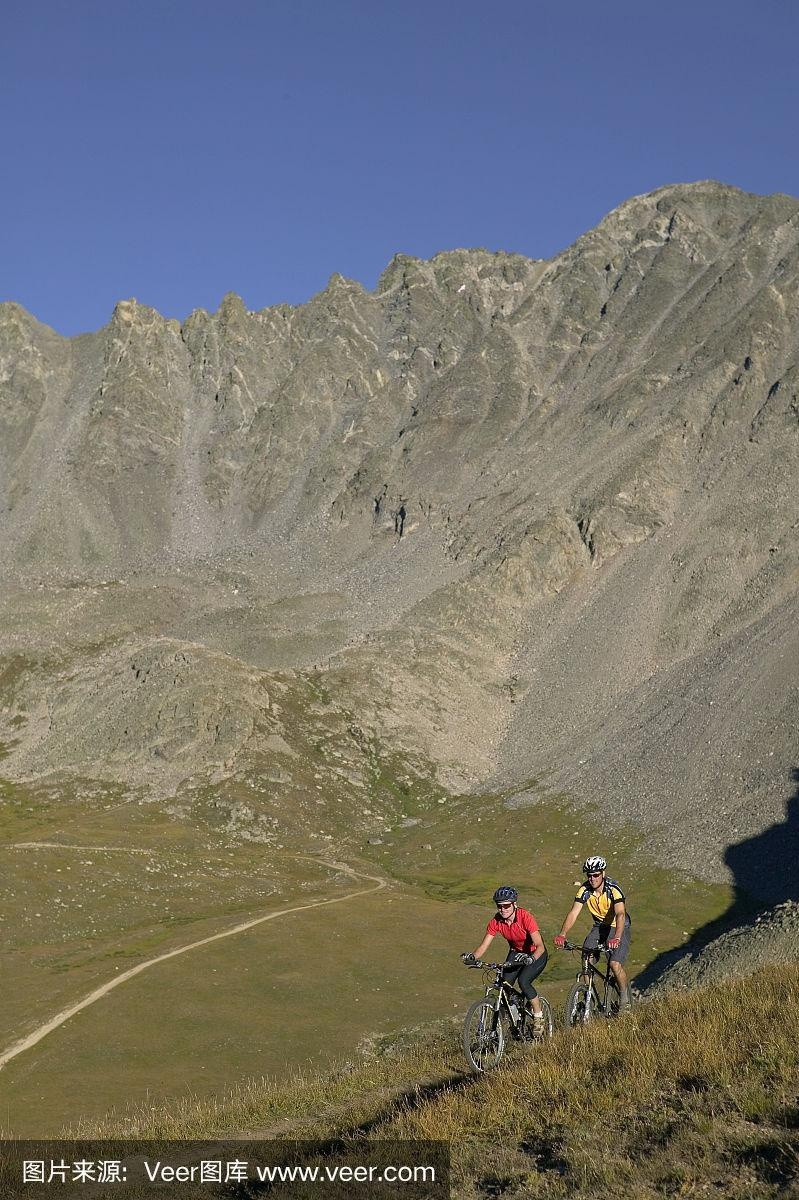non-vehicle: (457, 945, 544, 1080), (564, 934, 628, 1035)
